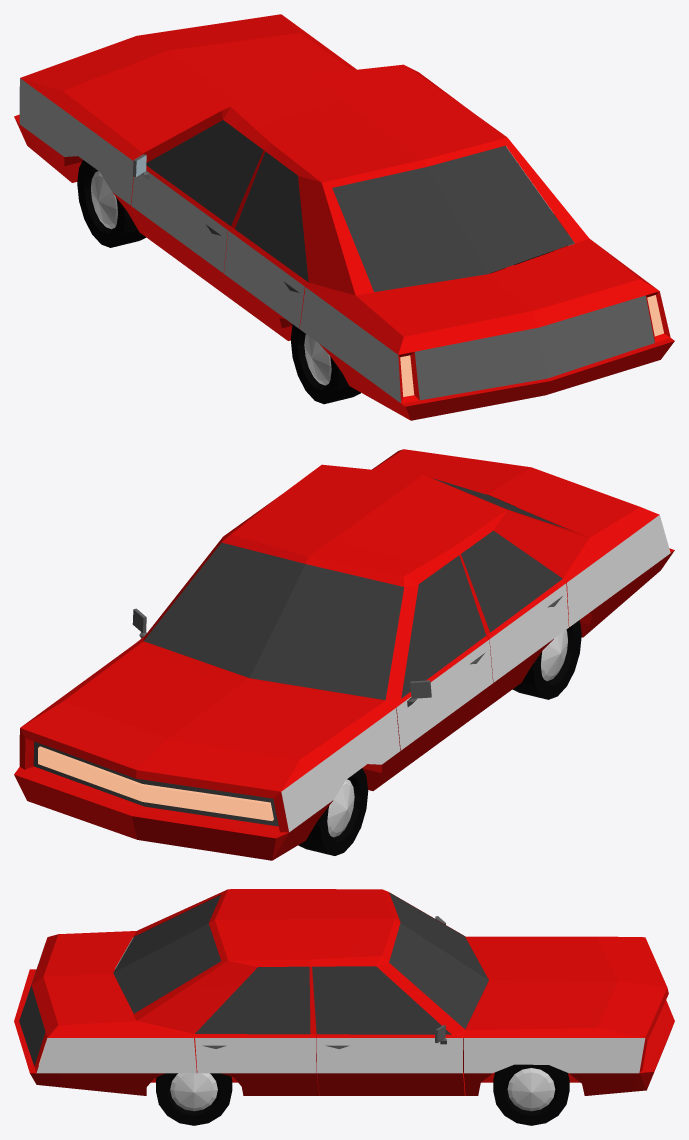
Rendered from Car_Long_5.glb.
3 renders of one model, top to bottom at view 1: azimuth 30°, elevation 25°; view 2: azimuth 150°, elevation 25°; view 3: azimuth 270°, elevation 25°, orthographic. The views are drawn at different scales.
Parts seen in each view (by area): view 1: SedanA_Body.008, SedanA_DoorL.008, SedanA_DoorL2.008, Sedan_A_wheelFL.008, Sedan_A_wheelRL.008; view 2: SedanA_Body.008, SedanA_DoorL.008, SedanA_DoorL2.008, Sedan_A_wheelFL.008, Sedan_A_wheelRL.008; view 3: SedanA_Body.008, SedanA_DoorR.008, SedanA_DoorR2.008, Sedan_A_wheelFR.008, Sedan_A_wheelRR.008.
Part boxes in pixels (box(x1,y1,x2,y2)): SedanA_Body.008: box(14, 14, 674, 420); SedanA_DoorL.008: box(131, 120, 263, 305); SedanA_DoorL2.008: box(224, 151, 308, 340); Sedan_A_wheelFL.008: box(77, 160, 145, 247); Sedan_A_wheelRL.008: box(290, 324, 360, 404); SedanA_Body.008: box(14, 449, 674, 860); SedanA_DoorL.008: box(382, 555, 492, 784); SedanA_DoorL2.008: box(461, 530, 568, 717); Sedan_A_wheelFL.008: box(298, 768, 368, 855); Sedan_A_wheelRL.008: box(512, 620, 581, 699); SedanA_Body.008: box(14, 889, 674, 1095); SedanA_DoorR.008: box(312, 966, 464, 1095); SedanA_DoorR2.008: box(194, 966, 319, 1095); Sedan_A_wheelFR.008: box(493, 1064, 569, 1125); Sedan_A_wheelRR.008: box(156, 1073, 232, 1125).
Size of the model in its own units: 2.14 by 1.39 by 5.18.
